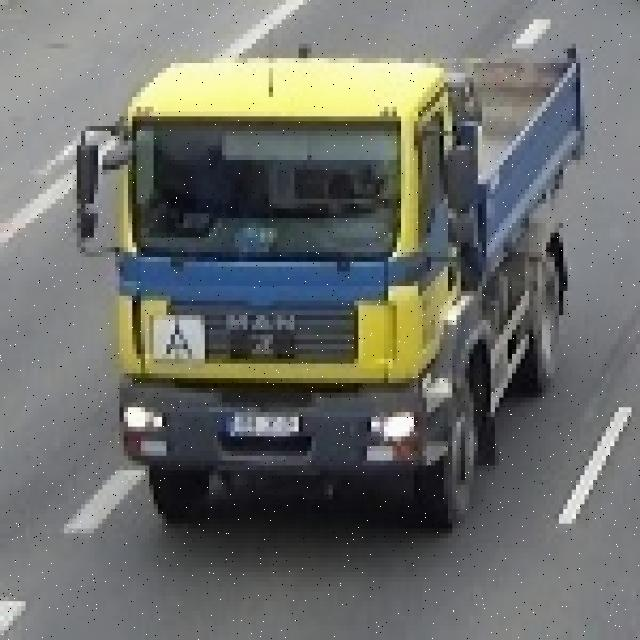truck: (77, 44, 589, 524)
